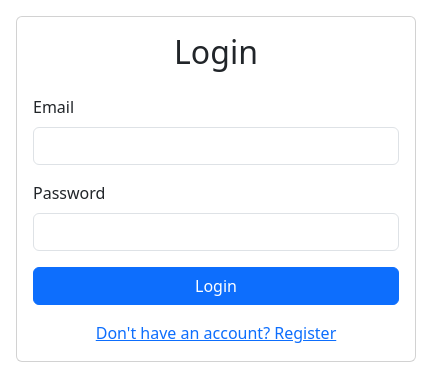
Login Component › shows loading state during login
In the field labelled "Email": point(216, 146) [33,127,399,165], type "test@example.com"
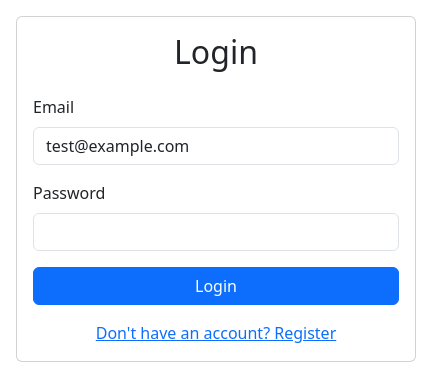
In the password field labelled "Password": point(216, 232) [33,213,399,251], type "password123"
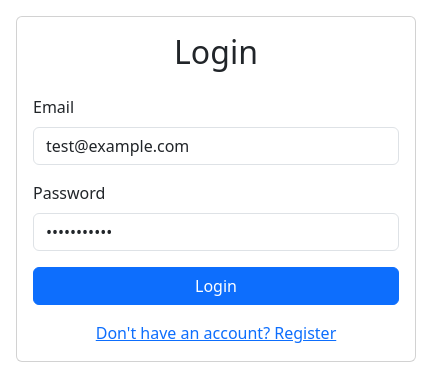
Click the button "Login": point(216, 286) [33,267,399,305]
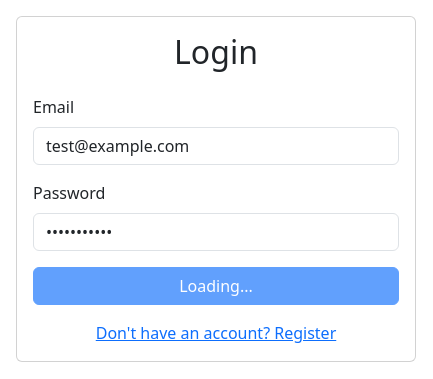
Now the button "Loading..." is disabled, box [33,267,399,305]
